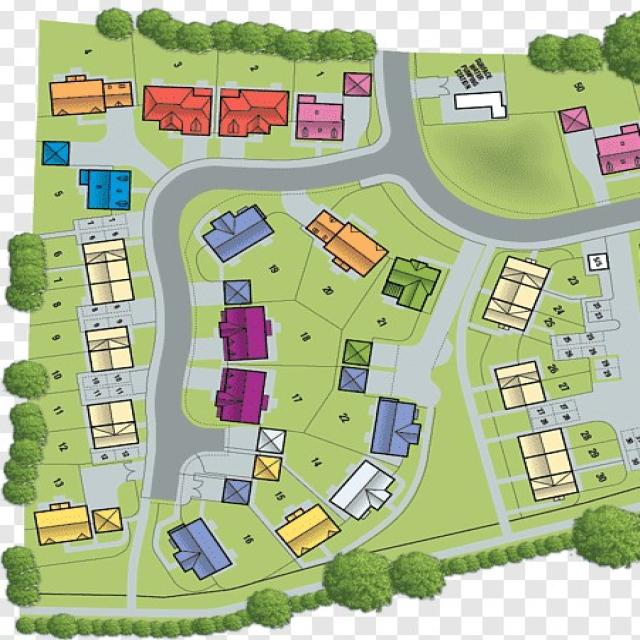greenish: (445, 125, 560, 191), (434, 437, 479, 526), (506, 76, 629, 108), (41, 40, 131, 70), (290, 438, 344, 486), (322, 397, 373, 445), (282, 316, 330, 364), (35, 168, 73, 227), (276, 371, 318, 423), (141, 54, 216, 82), (42, 567, 126, 591), (232, 524, 270, 576), (246, 250, 304, 282), (225, 56, 291, 83), (309, 267, 345, 311), (356, 301, 398, 337), (41, 397, 88, 425), (252, 485, 300, 512), (44, 433, 90, 461), (488, 442, 520, 480), (36, 465, 76, 495), (297, 62, 339, 90), (28, 328, 78, 351), (466, 330, 485, 388), (186, 243, 212, 282), (355, 196, 391, 224), (480, 416, 533, 435), (39, 291, 73, 320), (185, 197, 242, 214), (488, 54, 532, 76), (498, 484, 534, 510), (440, 370, 459, 419), (46, 359, 78, 388), (138, 560, 162, 597), (364, 98, 382, 147), (418, 54, 460, 74), (203, 500, 241, 522), (186, 392, 212, 424), (44, 241, 80, 264), (38, 117, 78, 137), (85, 547, 135, 563), (392, 231, 430, 252), (395, 512, 425, 538), (165, 574, 208, 592), (559, 264, 586, 292), (577, 447, 620, 464), (118, 482, 140, 515), (544, 297, 575, 320), (132, 331, 151, 366), (254, 145, 304, 158), (151, 137, 179, 160), (193, 309, 216, 337), (490, 338, 518, 361), (569, 426, 611, 441), (535, 319, 569, 337), (581, 469, 621, 484), (243, 191, 280, 207), (423, 99, 445, 125), (278, 222, 299, 248), (550, 381, 592, 394), (477, 393, 504, 413), (34, 548, 75, 561), (80, 123, 108, 142), (48, 271, 82, 285), (133, 277, 154, 297), (134, 400, 150, 425), (608, 180, 640, 192), (129, 247, 144, 270), (524, 339, 539, 360), (190, 359, 223, 368), (206, 140, 222, 156)
